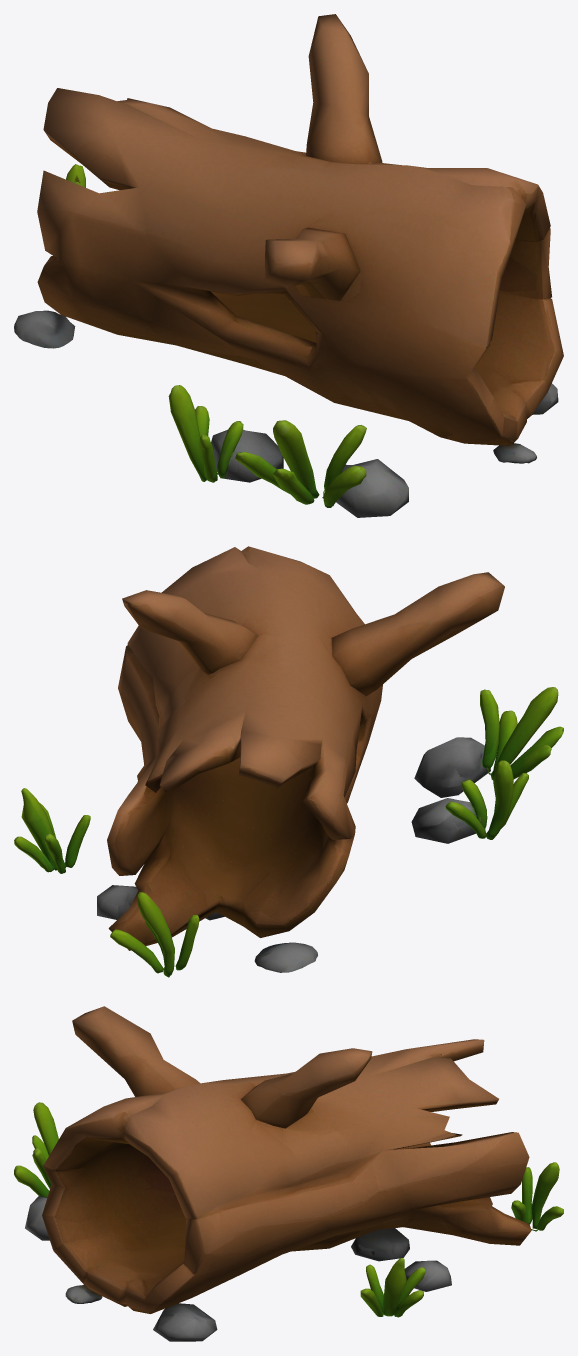
File: log_home_clean.glb
3 renders of one model, top to bottom at view 1: azimuth 30°, elevation 25°; view 2: azimuth 150°, elevation 25°; view 3: azimuth 270°, elevation 25°, orthographic. The views are drawn at different scales.
Visible parts, largest first — view 1: tripo_node_4028c22f-64f7-4a4f-9413-e9bd2f1811ac; view 2: tripo_node_4028c22f-64f7-4a4f-9413-e9bd2f1811ac; view 3: tripo_node_4028c22f-64f7-4a4f-9413-e9bd2f1811ac.
Part boxes in pixels (x1,y1,x2,y2): tripo_node_4028c22f-64f7-4a4f-9413-e9bd2f1811ac: (14,14,563,517); tripo_node_4028c22f-64f7-4a4f-9413-e9bd2f1811ac: (14,546,563,977); tripo_node_4028c22f-64f7-4a4f-9413-e9bd2f1811ac: (14,1006,563,1341).
Bounding box in the file's own units: 0.8 × 0.6 × 1.2.
Materials: 1 (1 with a texture image).
